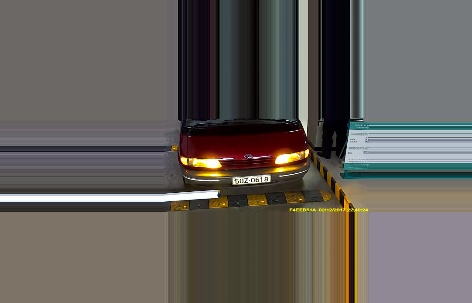plate: (229, 173, 270, 185)
